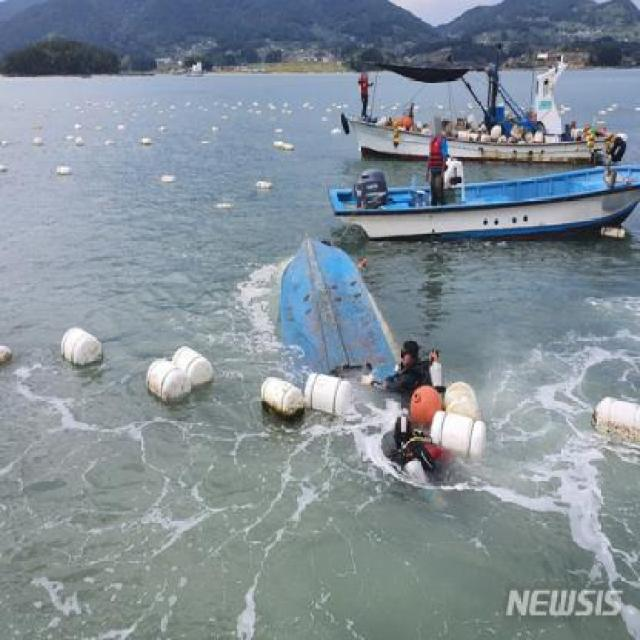fish-b: (322, 152, 640, 264), (333, 54, 631, 170)
